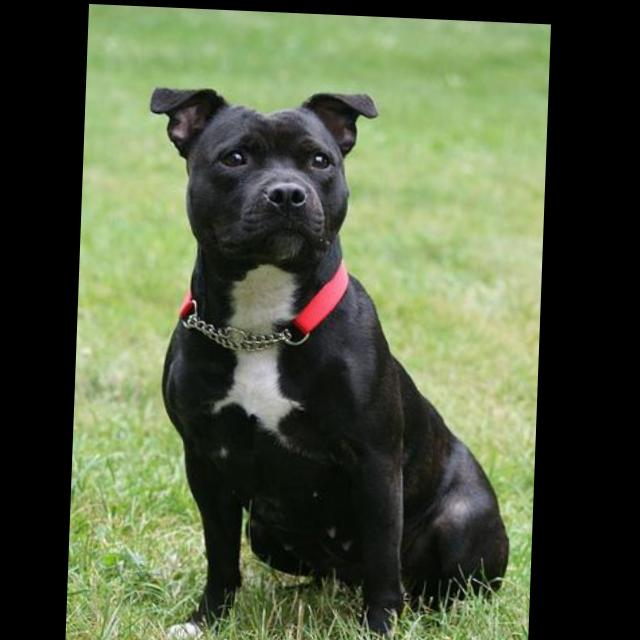staffford: (136, 81, 529, 640)
